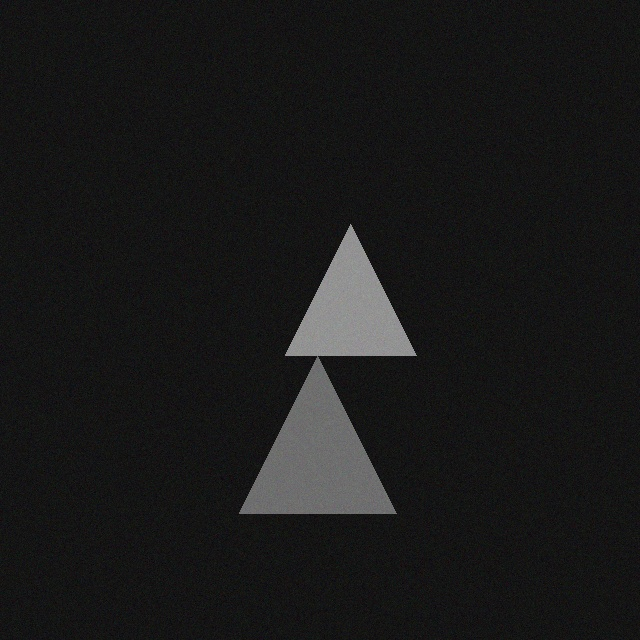triangle: (243, 355, 400, 512), (289, 223, 420, 354)
